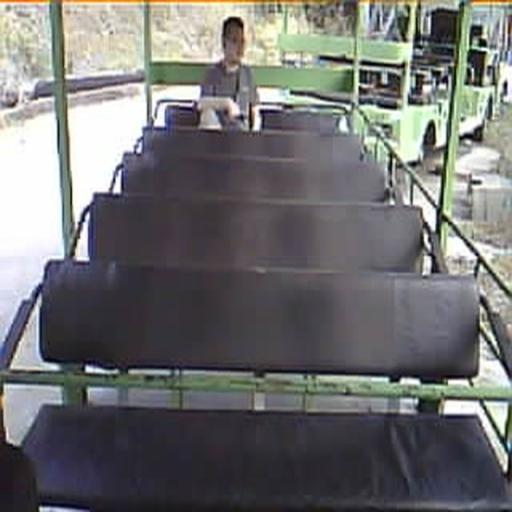persona: (197, 15, 262, 134)
